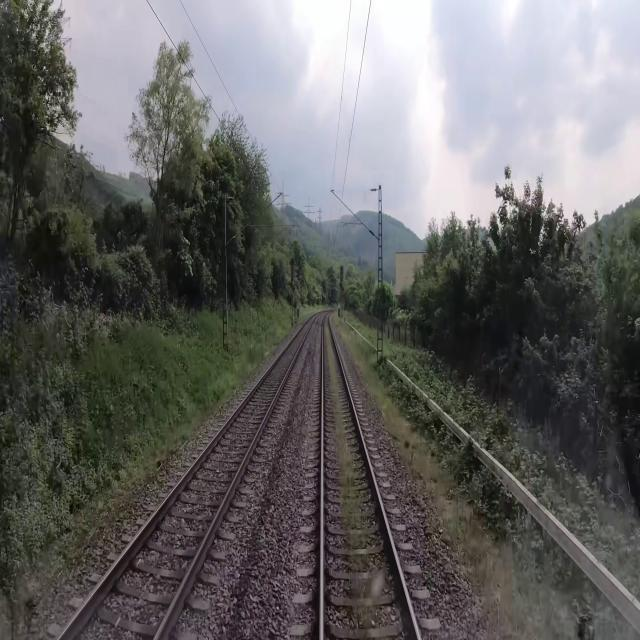Plant: (325, 312, 384, 630), (251, 516, 269, 554)
